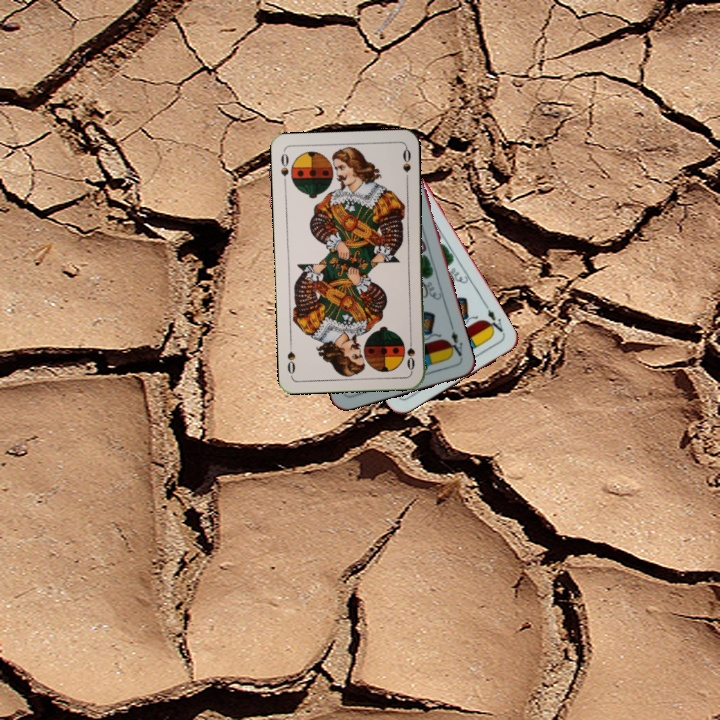EA: (481, 300, 507, 337), (444, 322, 465, 359)
SO: (403, 333, 418, 373), (277, 149, 291, 189)
